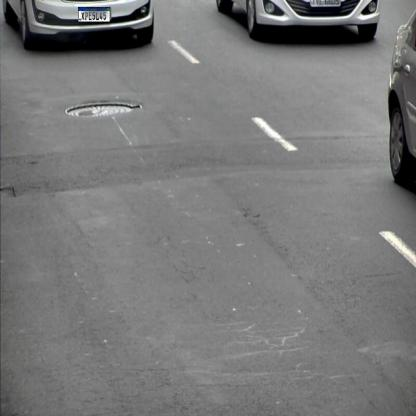PlacaM: (78, 7, 110, 22)
